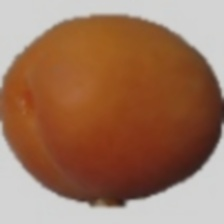apricot: (31, 35, 207, 200)
